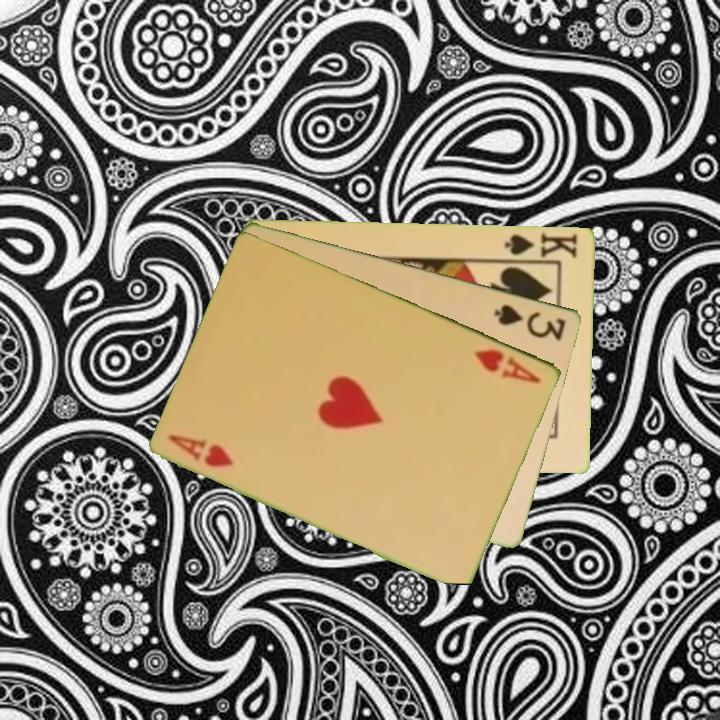3s: (491, 300, 569, 343)
Ah: (471, 345, 545, 386), (165, 430, 237, 470)
Ks: (501, 229, 581, 264)
